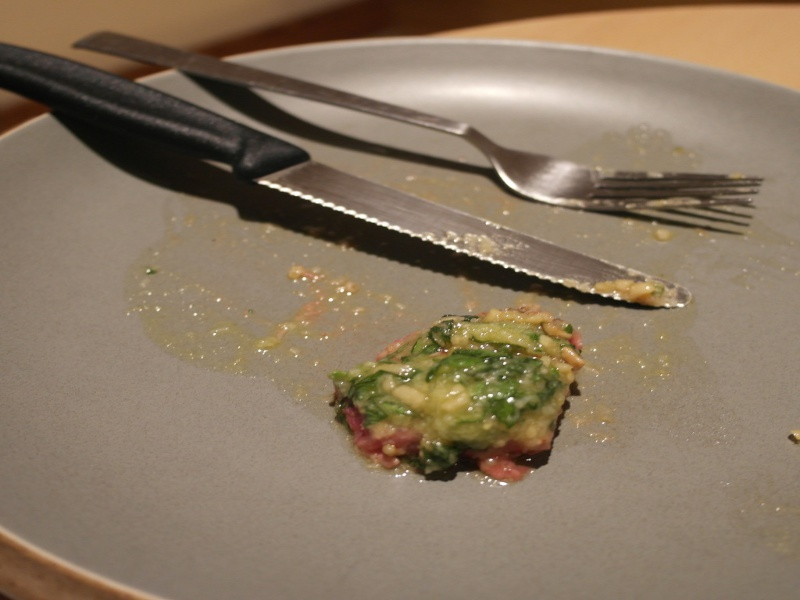knife: (2, 40, 695, 317)
